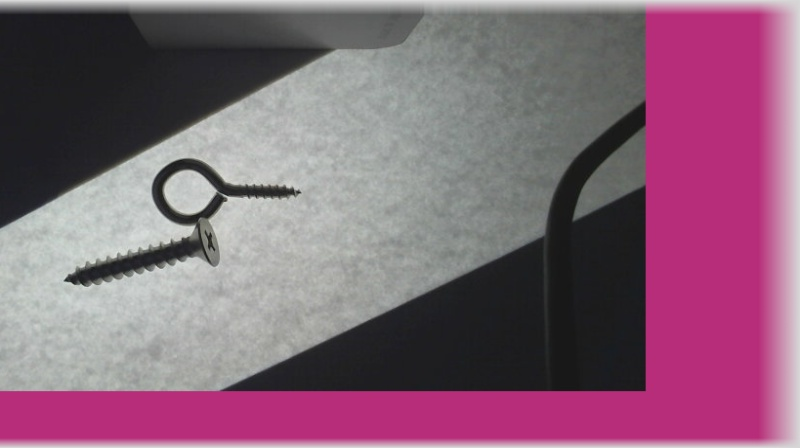O001: (147, 154, 302, 226)
S001: (61, 216, 220, 287)
